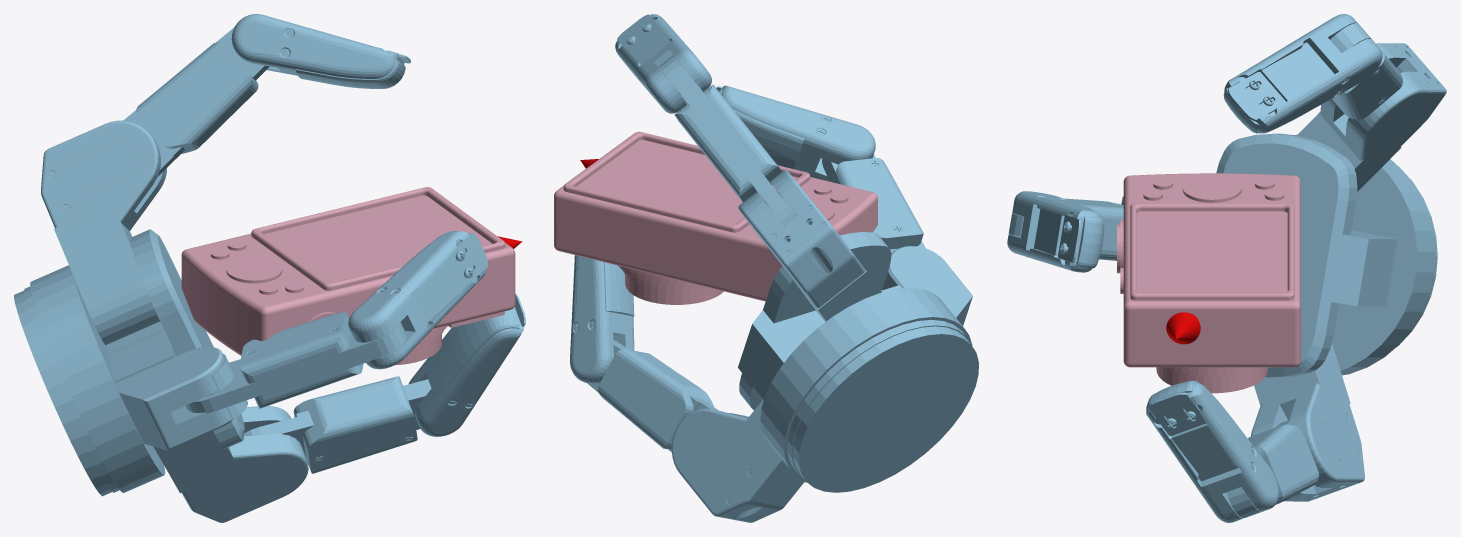
3 renders of one model, left to right at view 1: azimuth 30°, elevation 25°; view 2: azimuth 150°, elevation 25°; view 3: azimuth 270°, elevation 25°, orthographic. The views are drawn at different scales.
Parts seen in each view (by area): view 1: world, camera.stl; view 2: world, camera.stl; view 3: world, camera.stl.
Part boxes in pixels (left/top/right/bottom): world: left=14, top=14, right=525, bottom=522; camera.stl: left=181, top=187, right=515, bottom=365; world: left=570, top=14, right=978, bottom=522; camera.stl: left=554, top=131, right=877, bottom=304; world: left=1007, top=14, right=1446, bottom=522; camera.stl: left=1117, top=173, right=1300, bottom=393.
Bounding box in the file's own units: 0.1968 × 0.2057 × 0.1604.
